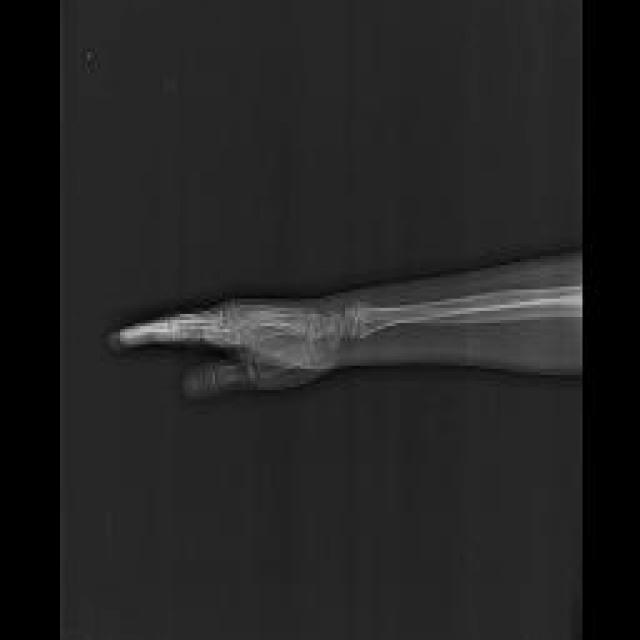normal: (122, 284, 582, 393)
